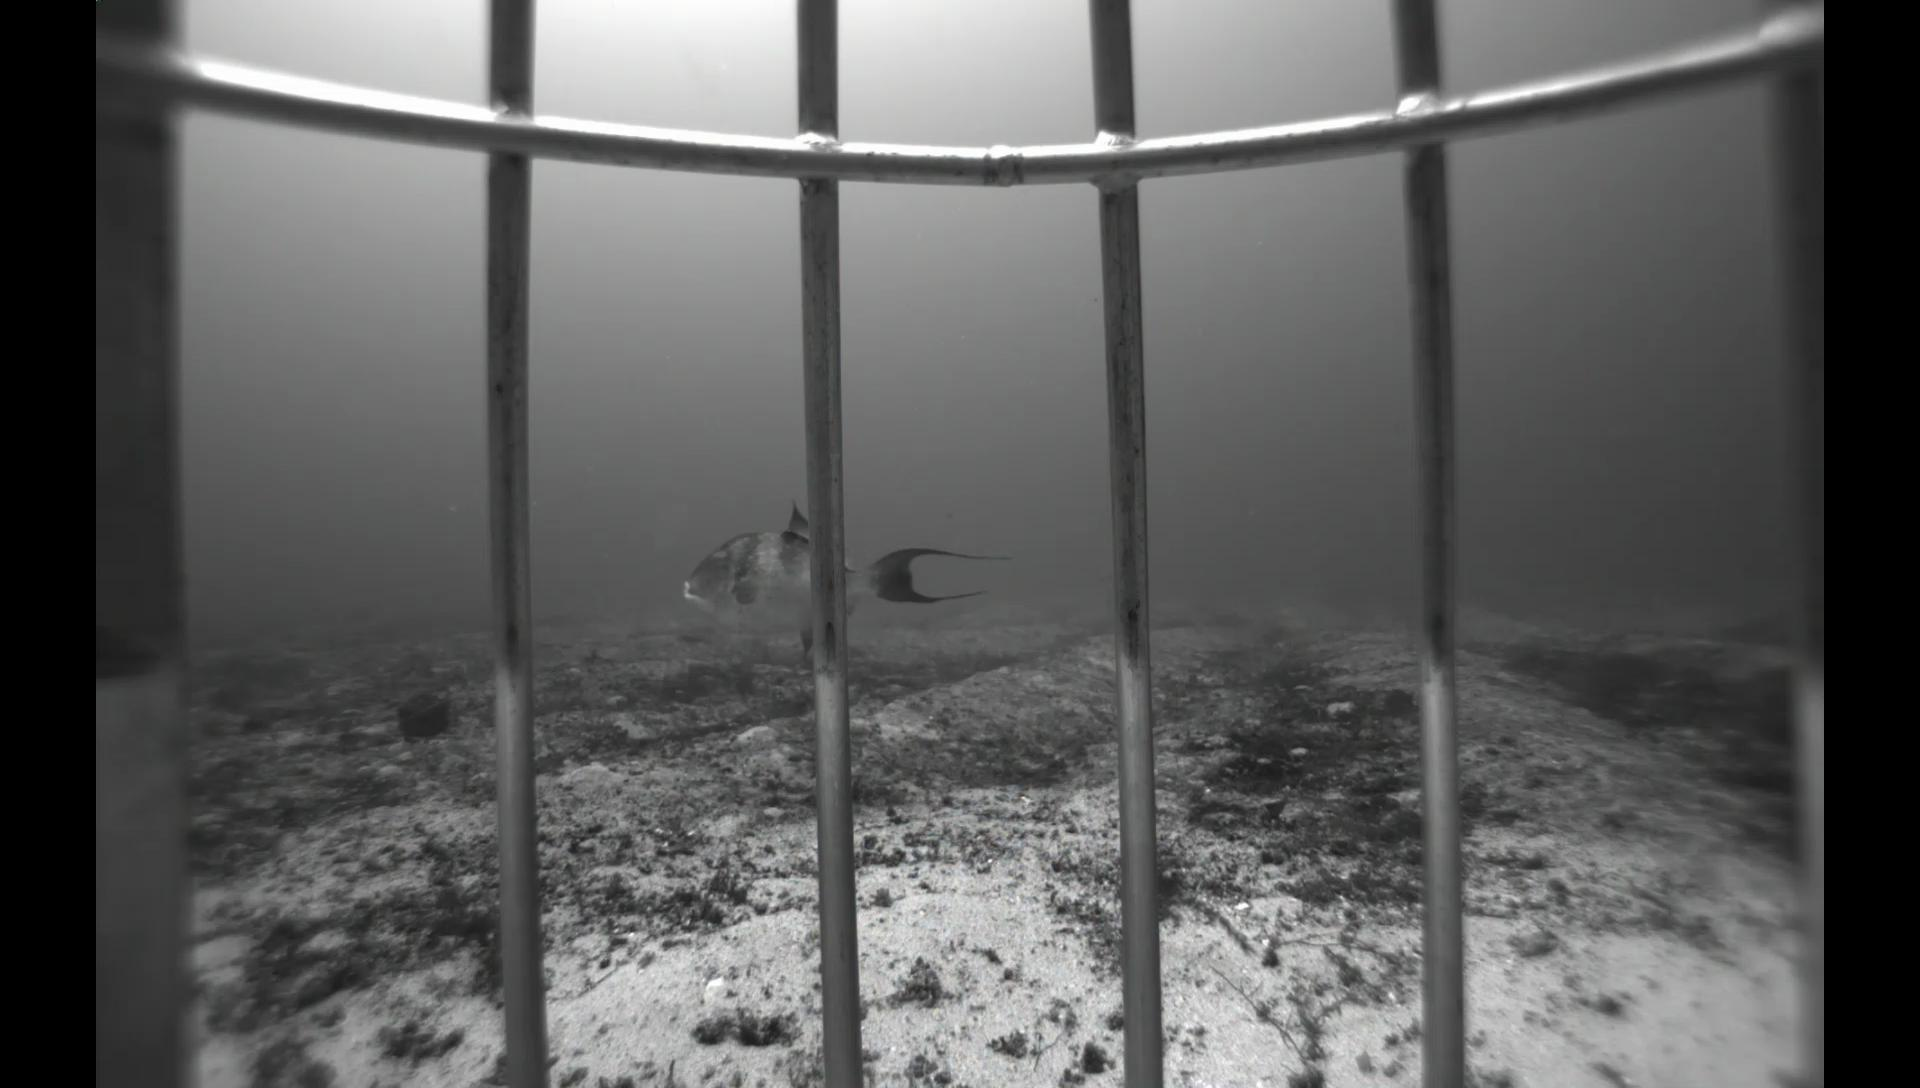BALISTESCAPRISCUS-189030502: (665, 496, 1026, 671)
